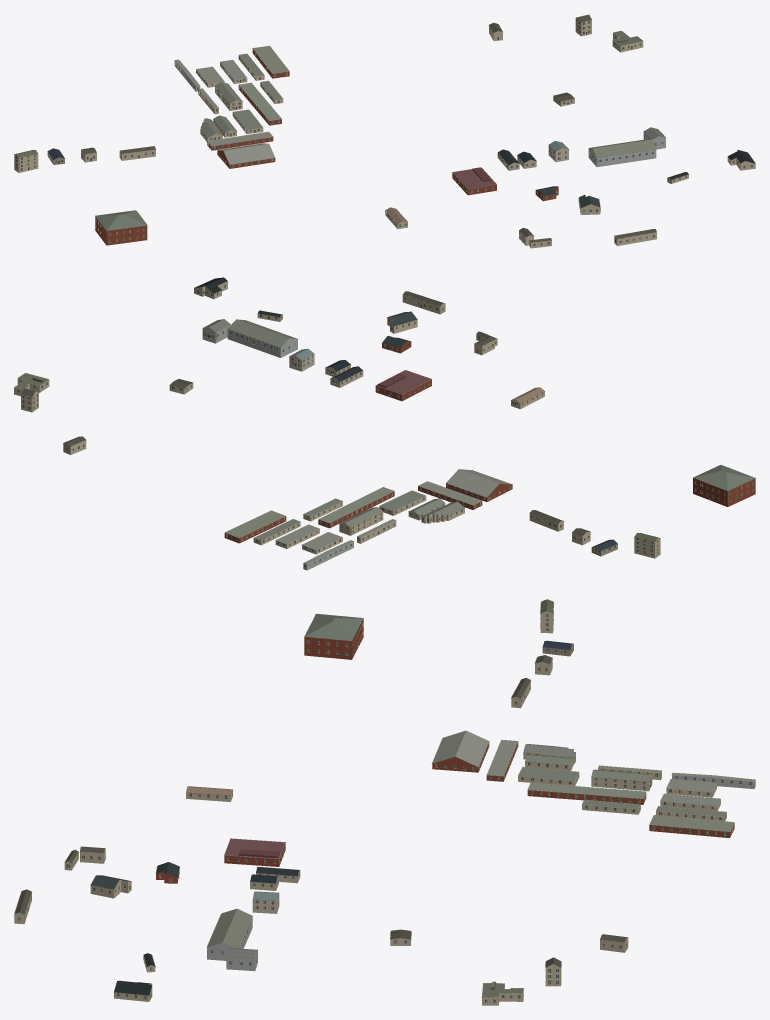
3 renders of one model, top to bottom at view 1: azimuth 30°, elevation 25°; view 2: azimuth 150°, elevation 25°; view 3: azimuth 270°, elevation 25°, orthographic. The views are drawn at different scales.
Parts seen in each view (by area): view 1: 4_1_599472697_0, 4_1_599472699_2, 4_1_599472703_6; view 2: 4_1_599472697_0, 4_1_599472699_2, 4_1_599472703_6; view 3: 4_1_599472697_0, 4_1_599472699_2, 4_1_599472703_6.
Part boxes in pixels (x1,y1,x2,y2): 4_1_599472697_0: [14, 14, 755, 246]; 4_1_599472699_2: [14, 17, 755, 248]; 4_1_599472703_6: [174, 60, 665, 167]; 4_1_599472697_0: [14, 277, 755, 567]; 4_1_599472699_2: [14, 281, 660, 558]; 4_1_599472703_6: [202, 324, 353, 570]; 4_1_599472697_0: [14, 599, 755, 1003]; 4_1_599472699_2: [14, 605, 726, 1005]; 4_1_599472703_6: [207, 775, 755, 971].
Size of the model in its own units: 463 by 29.27 by 383.
